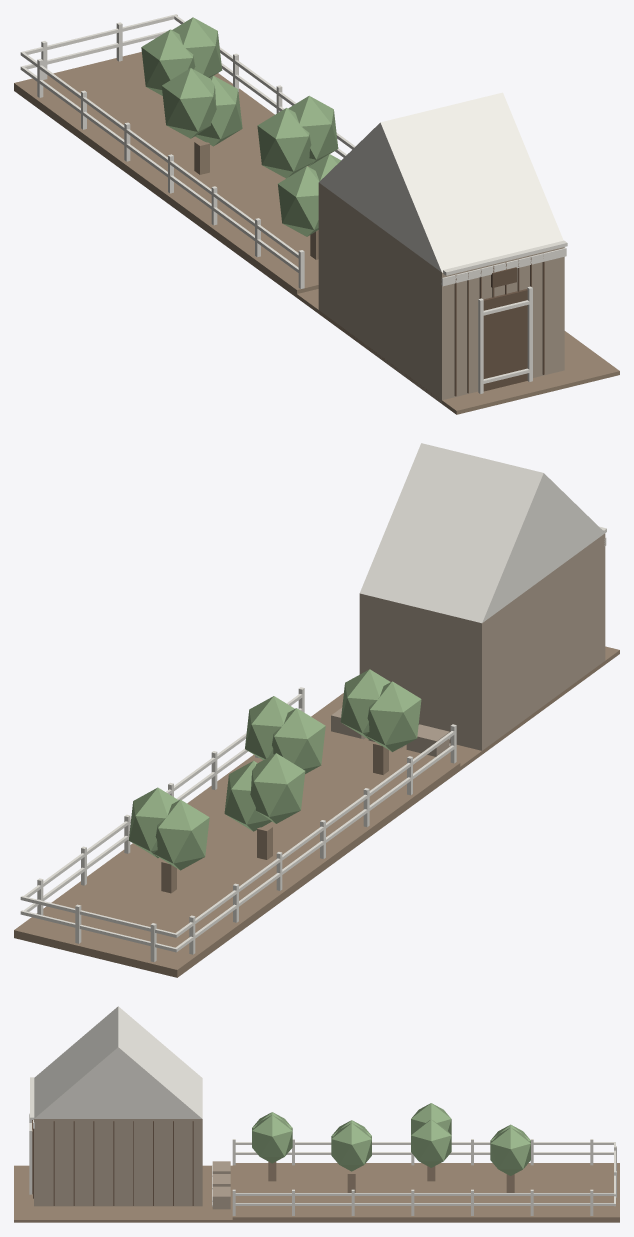
File: farm_1x4_c.glb
3 views of the same model, one above another, from view 1: azimuth 30°, elevation 25°; view 2: azimuth 150°, elevation 25°; view 3: azimuth 270°, elevation 25° (orthographic). The views are drawn at different scales.
Visible parts, largest first — view 1: farm_1x4_c_yard; view 2: farm_1x4_c_yard; view 3: farm_1x4_c_yard.
Boxes of the visible parts, bbox=[...] form: farm_1x4_c_yard: bbox=[14, 14, 619, 414]; farm_1x4_c_yard: bbox=[14, 443, 619, 977]; farm_1x4_c_yard: bbox=[14, 1006, 619, 1222].
Bounding box in the file's own units: 6.5 × 9 × 30.5.
